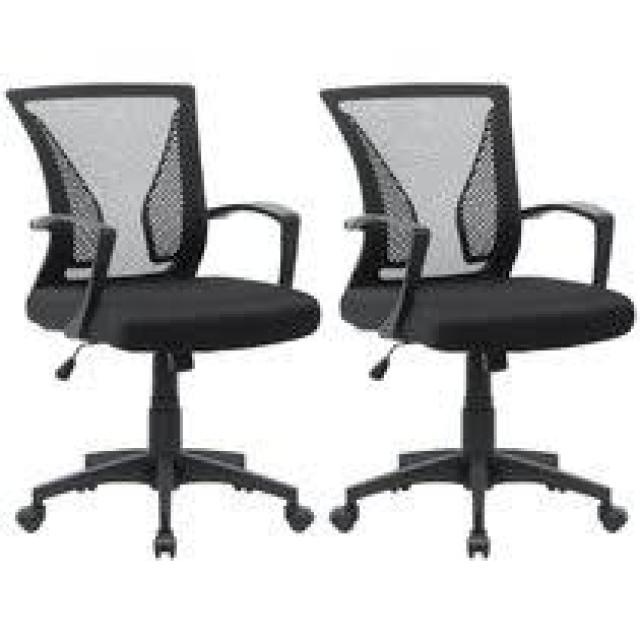chair: (0, 27, 329, 598), (306, 32, 640, 589)
